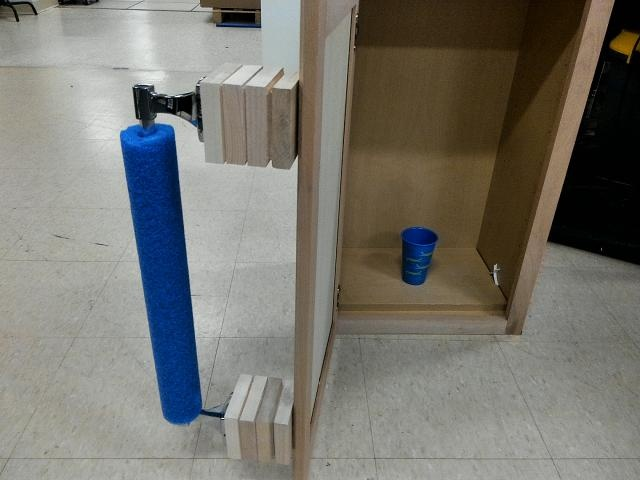noodle_handle: (119, 117, 210, 423)
water_cup: (391, 217, 437, 289)
